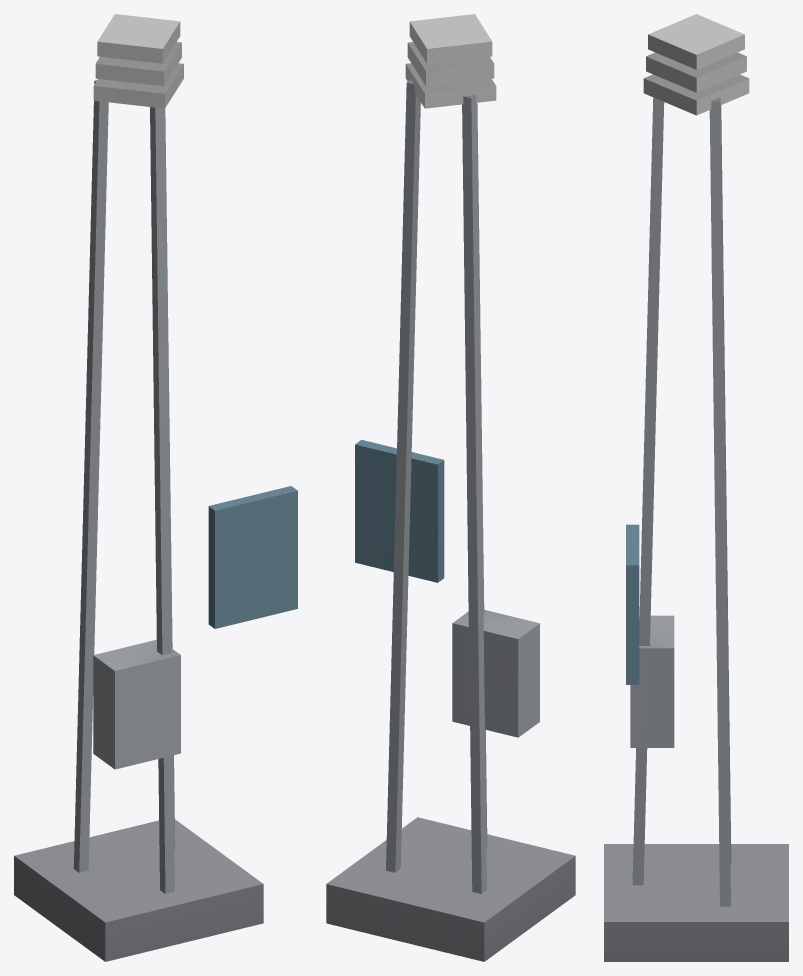
Rendered from mast.lod2.glb.
3 views of the same model, side by side, from view 1: azimuth 30°, elevation 25°; view 2: azimuth 150°, elevation 25°; view 3: azimuth 270°, elevation 25° (orthographic).
Size of the model in its own units: 1.08 by 4.46 by 0.84.
